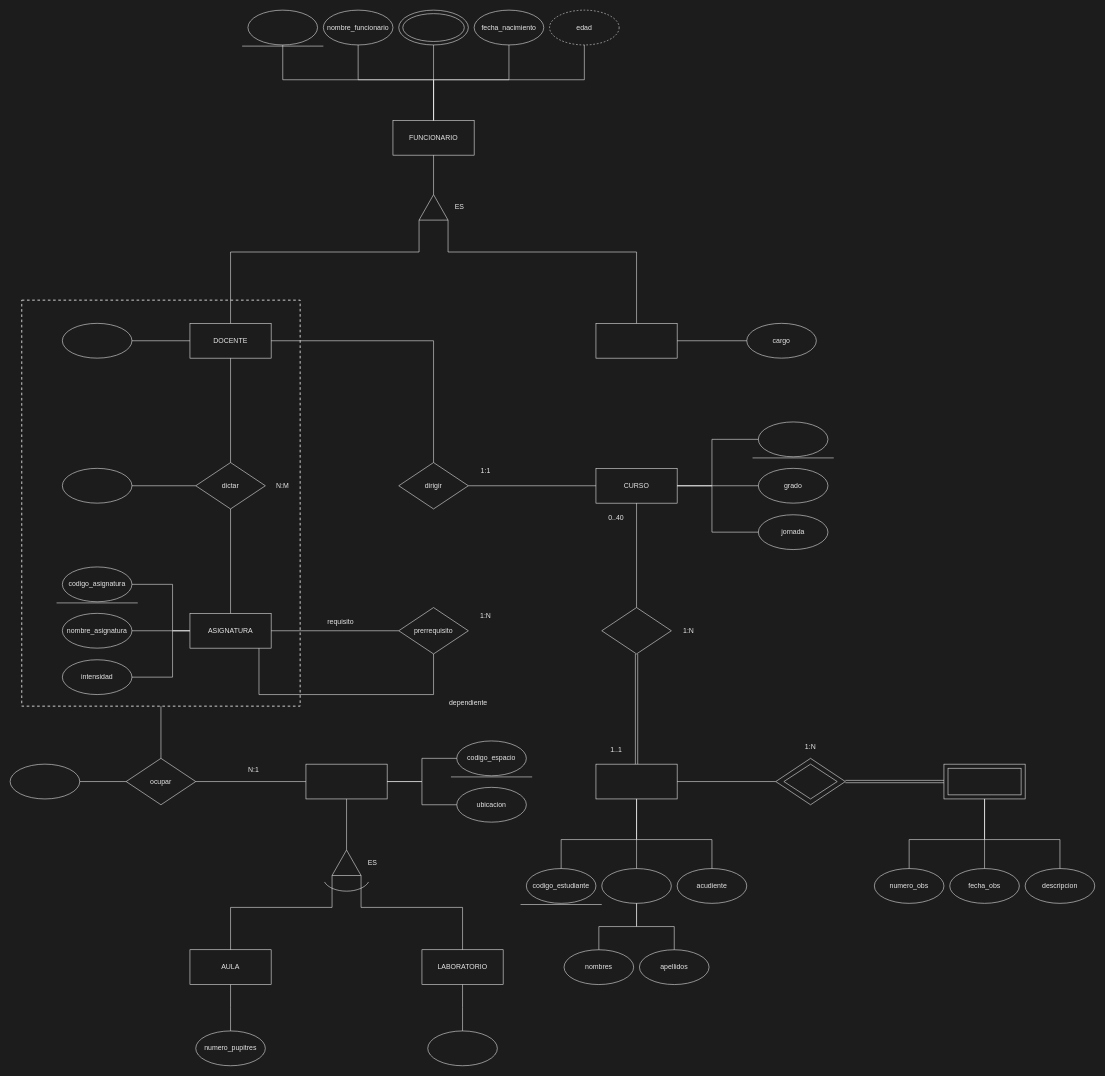
This 1105x1076 diagram has some shape labels left out. The centre of each missing label's shape, as x and y in pixels:
anio_lectivo: the point at 97,485
DIRECTIVO: the point at 636,340
ESPACIO: the point at 346,781
especialidad: the point at 97,340
ESTUDIANTE: the point at 636,781
horario: the point at 45,781
id_curso: the point at 793,439
id_funcionario: the point at 282,27
nombre_estudiante: the point at 636,885
OBSERVACION: the point at 984,781
pertenecer: the point at 636,630
registrar: the point at 810,781
telefono: the point at 433,27
tipo_laboratorio: the point at 462,1048
